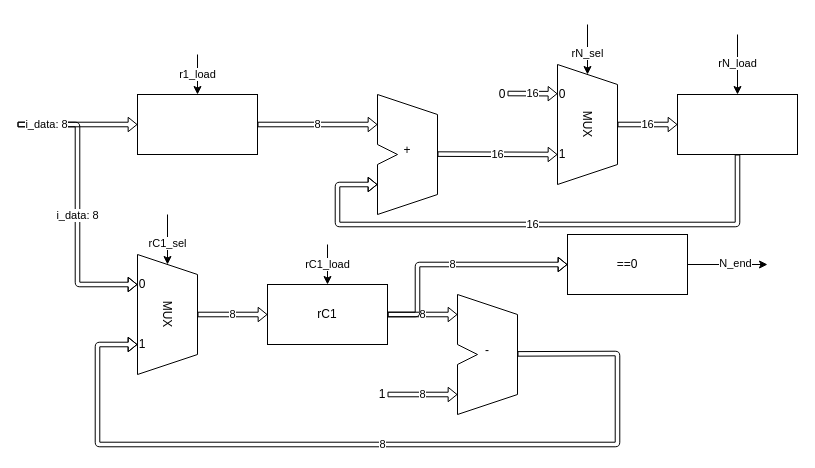
Some shapes in this 815 by 468 pixel diagram are drawn without their labels. Each missing label, with the centre of its shape:
r1: the point at 197,124
rN: the point at 737,124
